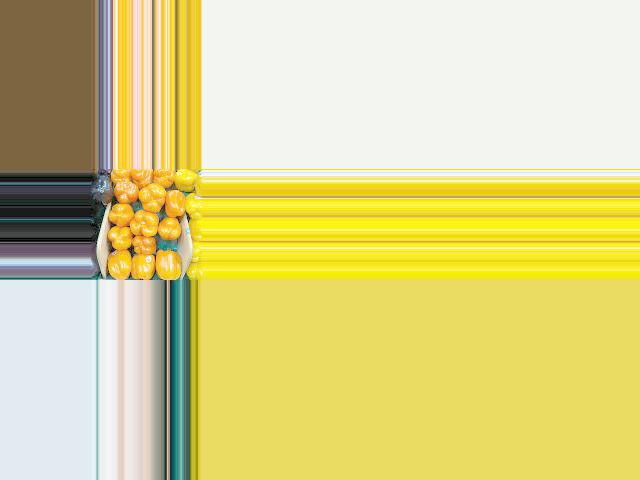bell_pepper: (185, 191, 199, 222)
